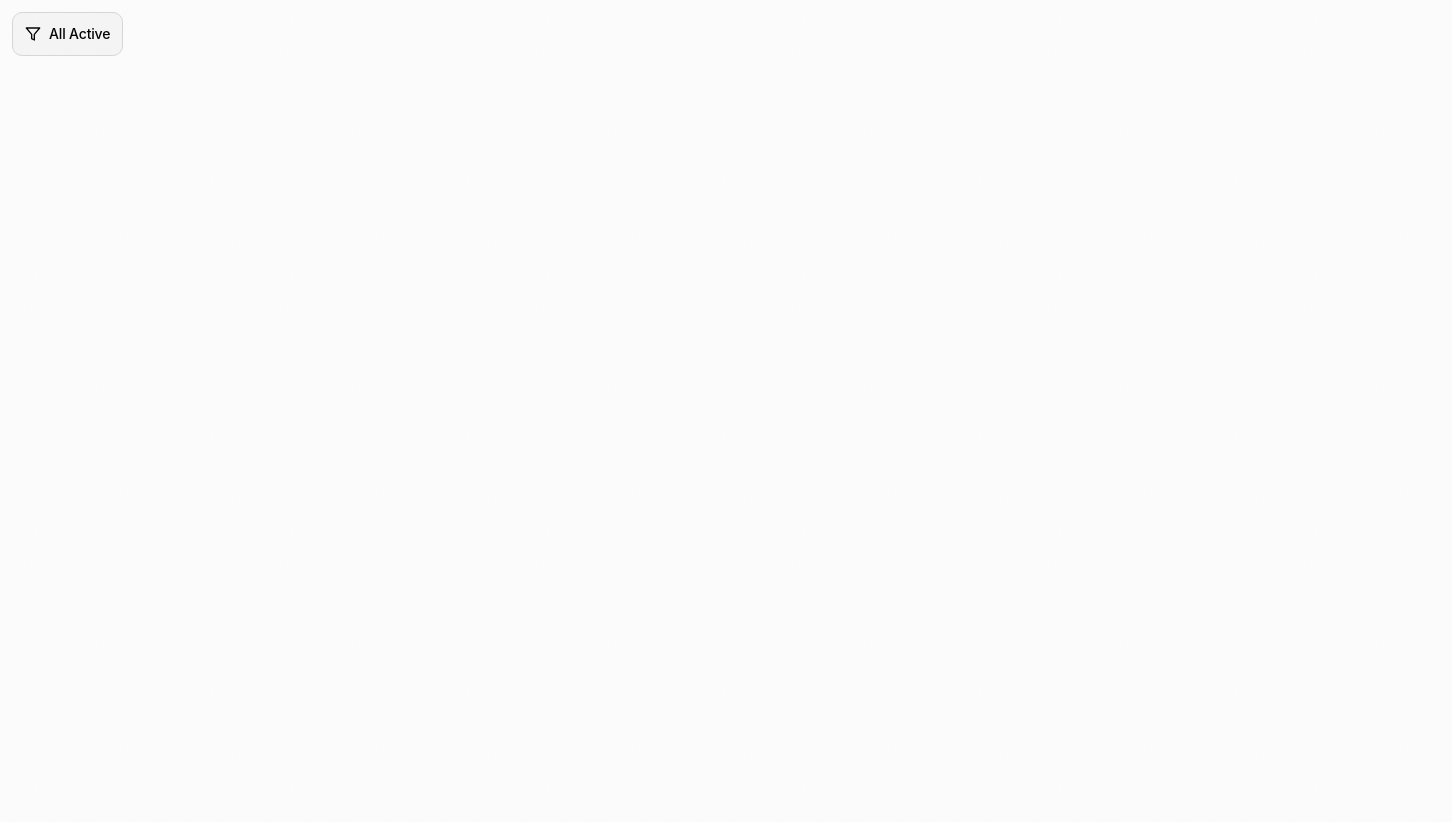
it: MissionFilters status selection (ported tag-select) › toggles a status tag on then off, forwarding the updated array to onFiltersChange both times
The width and height of the screenshot is (1452, 822).
Click the button "All Active". click: (68, 34)
box: 12,12 -> 123,56
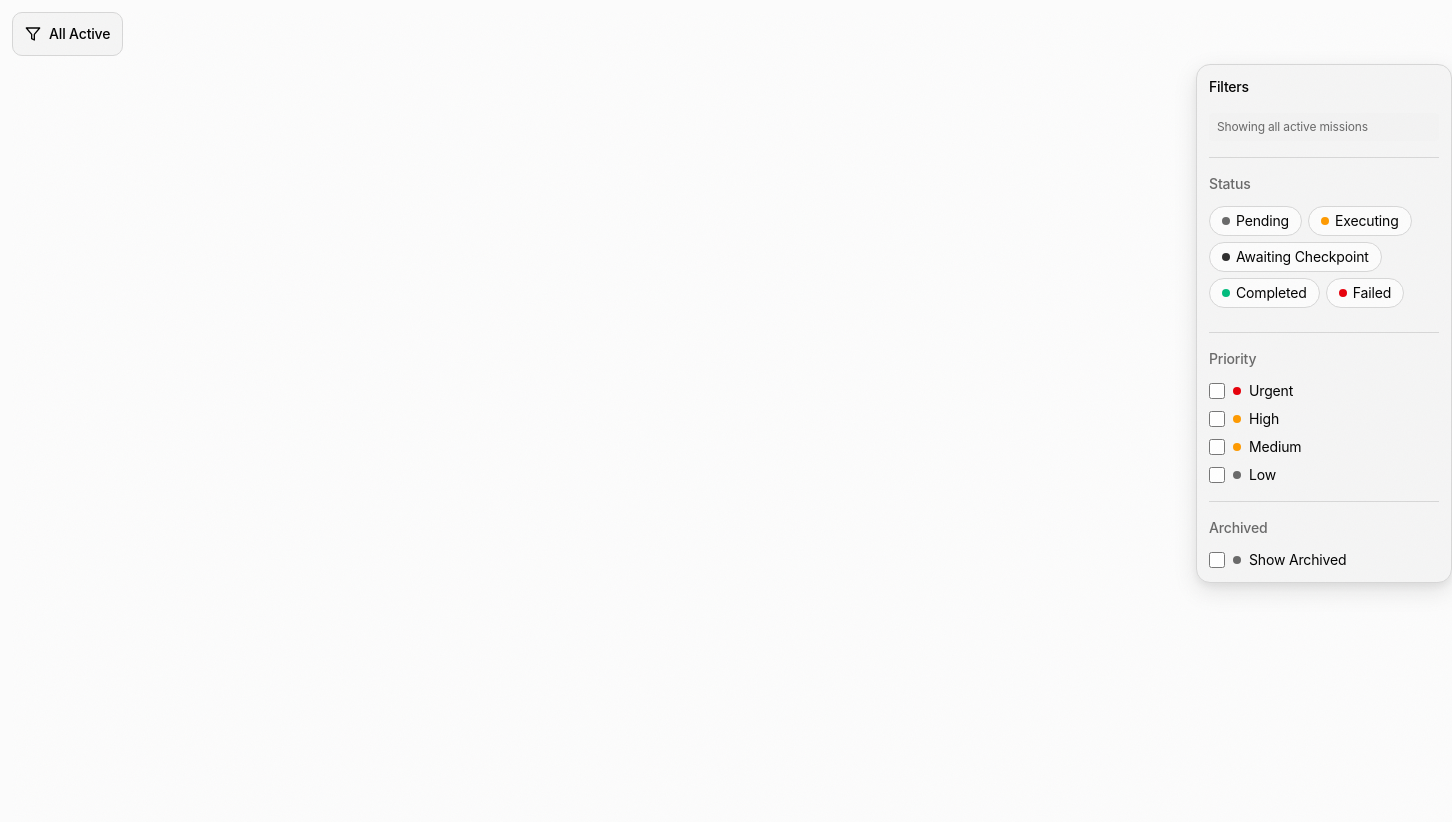
Click the button "Completed". click: (1264, 293)
box: 1209,278 -> 1320,308
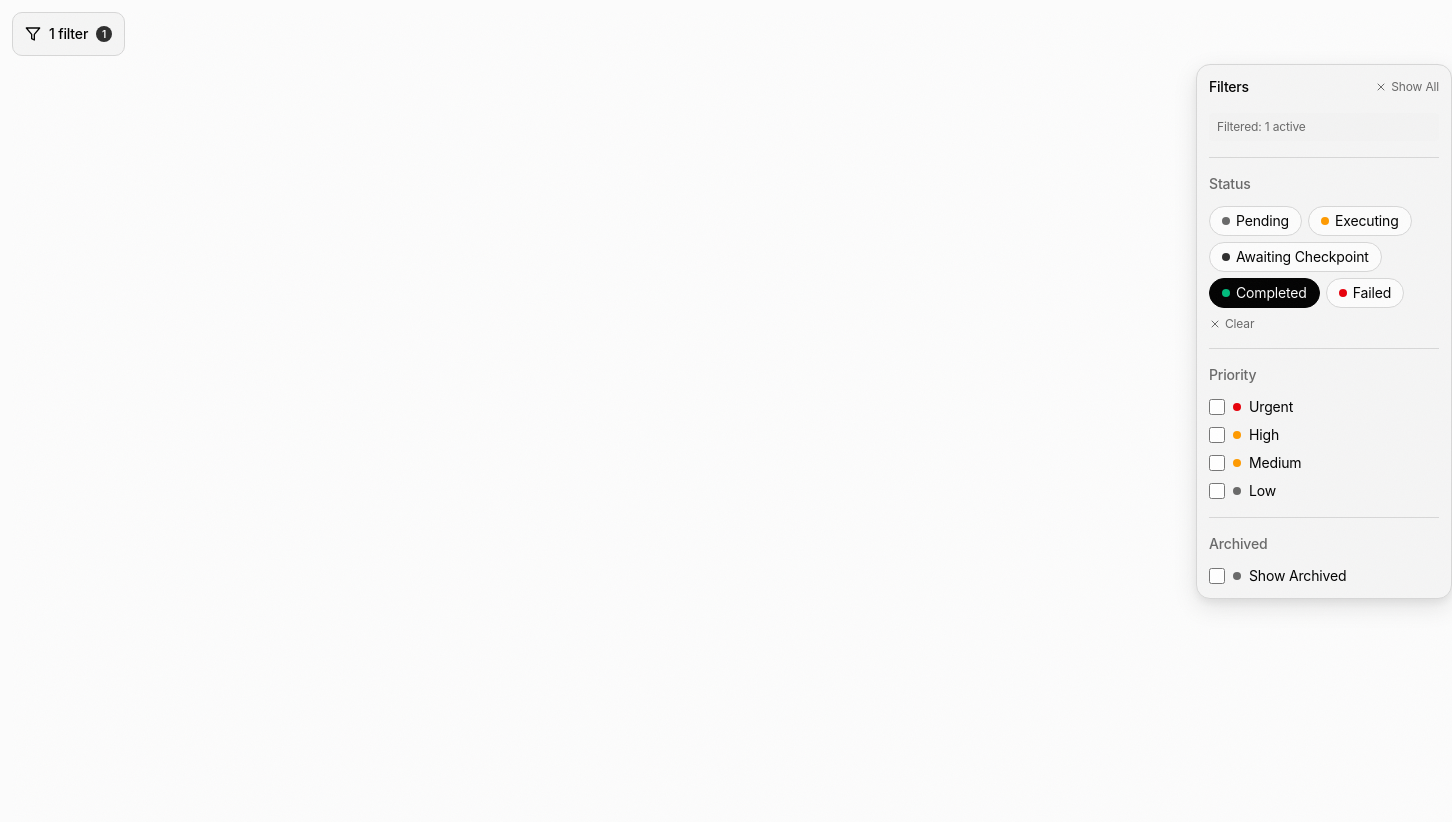
Now the button "Completed" is pressed
Click the button "Completed". click: (1264, 293)
box: 1209,278 -> 1320,308
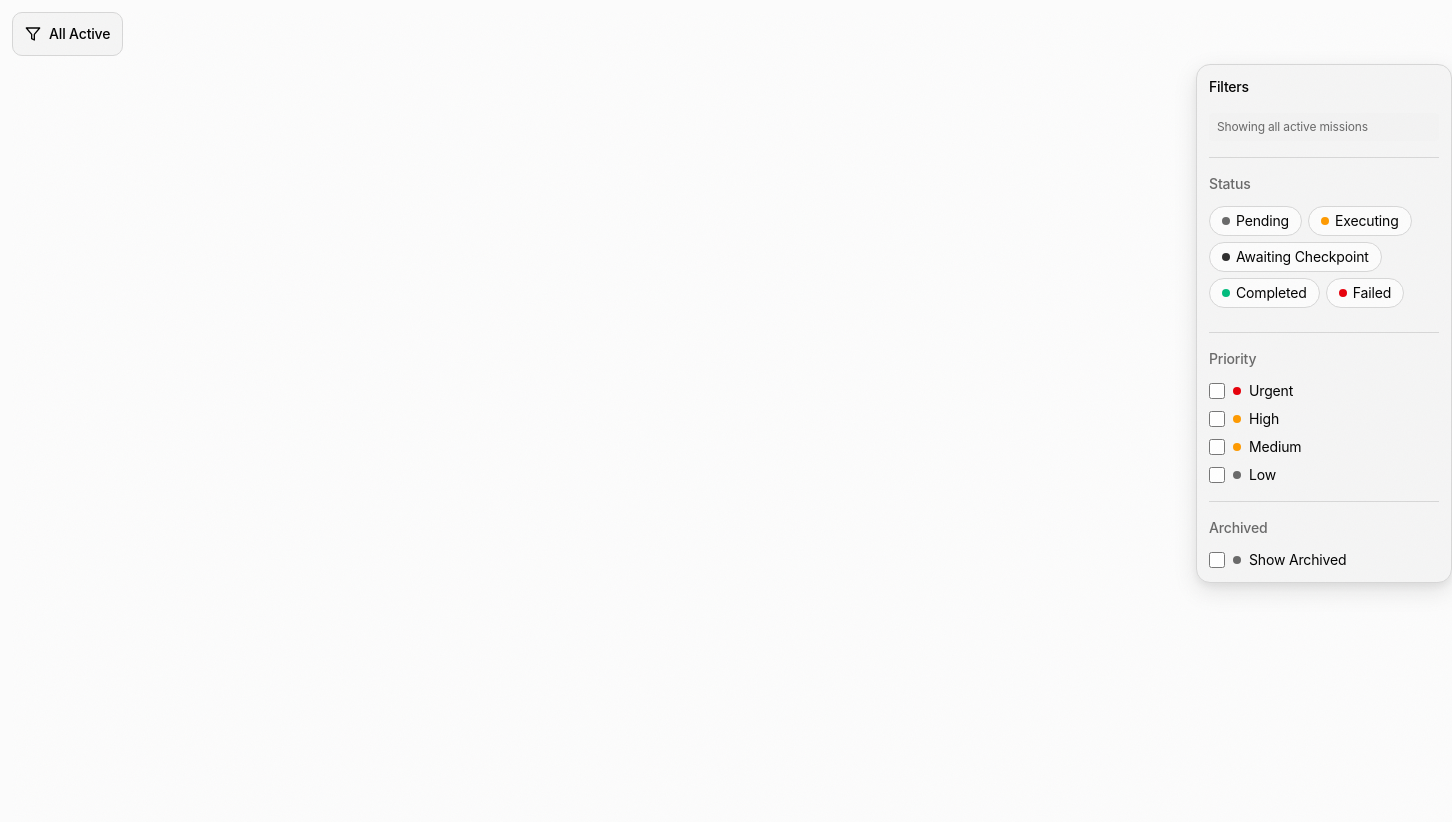
Now the button "Completed" is not pressed, box 1209,278 -> 1320,308
